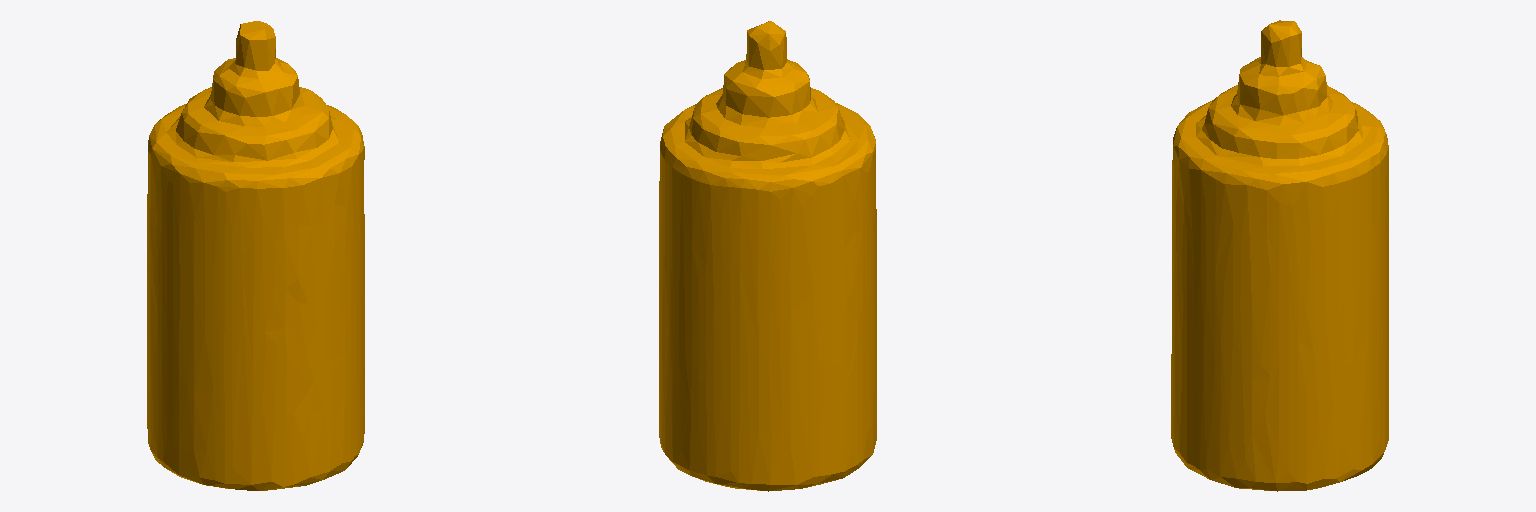
URDF robot description (spray_can_poisson_000):
<?xml version="1.0"?>
<robot name="spray_can_poisson_000">
  <link name="base_link">
    <contact>
      <lateral_friction value="1.0"/>
      <rolling_friction value="0.0"/>
      <contact_cfm value="0.0"/>
      <contact_erp value="1.0"/>
    </contact>
    <inertial>
      <mass value="0.542253449085"/>
      <inertia ixx="1" ixy="0" ixz="0" iyy="1" iyz="0" izz="1"/>
    </inertial>
    <visual>
      <geometry>
        <mesh filename="spray_can_poisson_000_visual.obj"/>
      </geometry>
    </visual>
    <collision>
      <geometry>
        <mesh filename="spray_can_poisson_000_collision.obj"/>
      </geometry>
    </collision>
  </link>
</robot>

--- Render facts (derived) ---
3 views of the same robot in one strip: view 1: azimuth 30°, elevation 25°; view 2: azimuth 150°, elevation 25°; view 3: azimuth 270°, elevation 25° (orthographic).
Model spray_can_poisson_000 with 1 links and 0 joints (none), rooted at base_link, posed all joints at 0.
Links seen in each view (by area): view 1: base_link; view 2: base_link; view 3: base_link.
Boxes of the visible links, <box> form: base_link: <box>147,21,364,490</box>; base_link: <box>659,21,876,491</box>; base_link: <box>1171,20,1388,491</box>.
Bounding box of the posed robot: 0.07 × 0.0694 × 0.1499 m (x, y, z).
1 mesh visuals loaded from 1 distinct referenced files (1 OBJ).